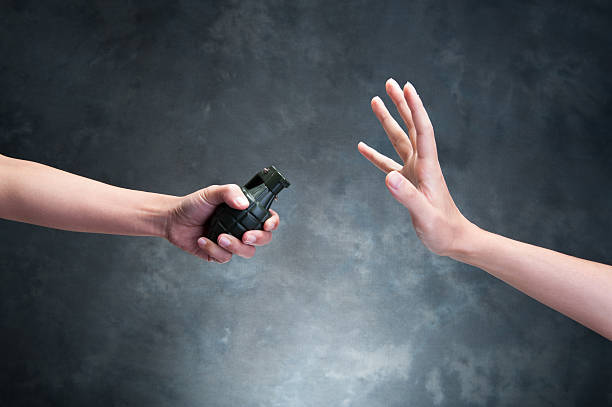e1: (204, 169, 288, 240)
